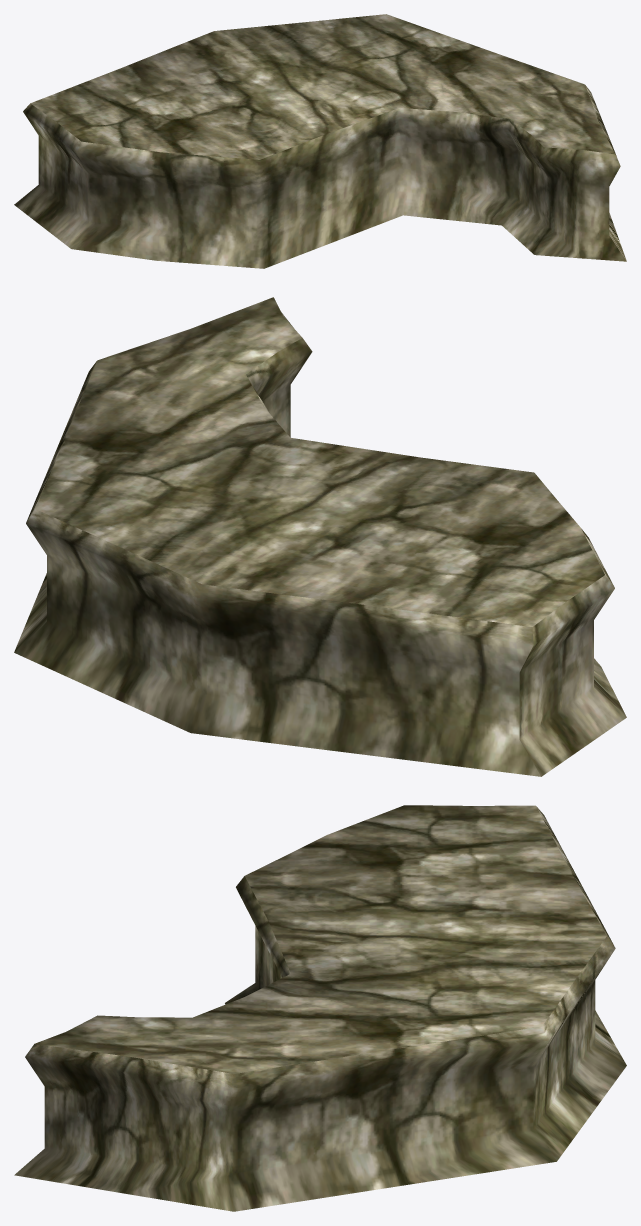
Rendered from CB_NEWPLAYSURFACE_CB_PLAYSURFACE110.fbx.
The picture shows the model from 3 angles, top to bottom: view 1: azimuth 30°, elevation 25°; view 2: azimuth 150°, elevation 25°; view 3: azimuth 270°, elevation 25°; orthographic projection. The views are drawn at different scales.
Parts seen in each view (by area): view 1: CB_NEWPLAYSURFACE_CB_PLAYSURFACE110; view 2: CB_NEWPLAYSURFACE_CB_PLAYSURFACE110; view 3: CB_NEWPLAYSURFACE_CB_PLAYSURFACE110.
Part boxes in pixels (<box>): CB_NEWPLAYSURFACE_CB_PLAYSURFACE110: <box>14,14,626,268</box>; CB_NEWPLAYSURFACE_CB_PLAYSURFACE110: <box>14,297,626,776</box>; CB_NEWPLAYSURFACE_CB_PLAYSURFACE110: <box>14,805,626,1211</box>.
Size of the model in its own units: 128052 by 27027 by 116201.
Materials: 2 (2 with a texture image).
